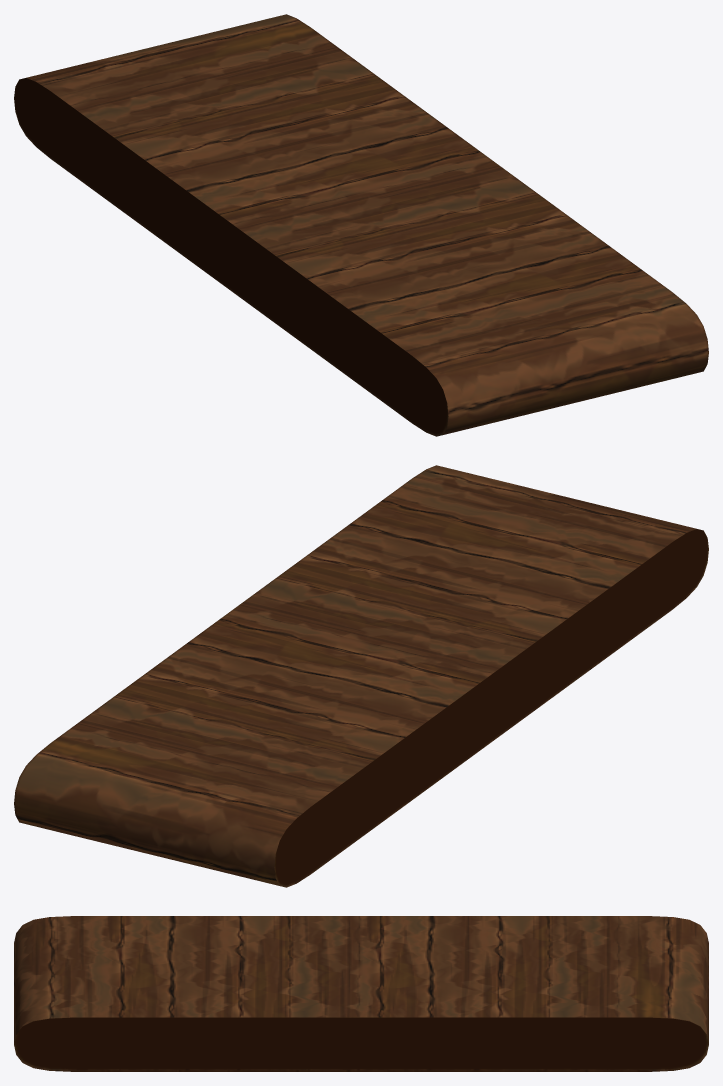
The model's file is Balista_Tartak_Kamieniolom.fbx.
3 views of the same model, one above another, from view 1: azimuth 30°, elevation 25°; view 2: azimuth 150°, elevation 25°; view 3: azimuth 270°, elevation 25° (orthographic). The views are drawn at different scales.
Visible parts, largest first — view 1: Cylinder.009_Baked; view 2: Cylinder.009_Baked; view 3: Cylinder.009_Baked.
Part boxes in pixels (bbox=[...]): Cylinder.009_Baked: bbox=[14, 14, 708, 436]; Cylinder.009_Baked: bbox=[14, 465, 708, 887]; Cylinder.009_Baked: bbox=[14, 916, 708, 1071].
Size of the model in its own units: 66.83 by 16.61 by 193.
Materials: 1 (1 with a texture image).
